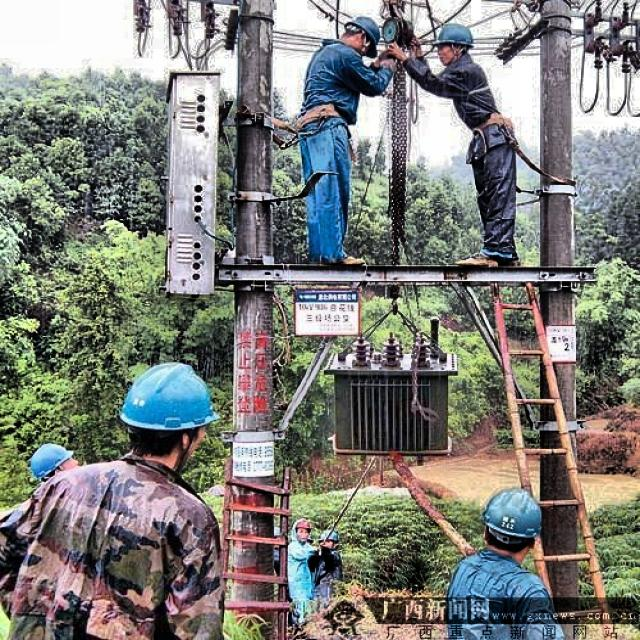helmet: (115, 354, 228, 470), (478, 487, 546, 563), (26, 439, 72, 492), (337, 13, 385, 61), (429, 21, 479, 67)
